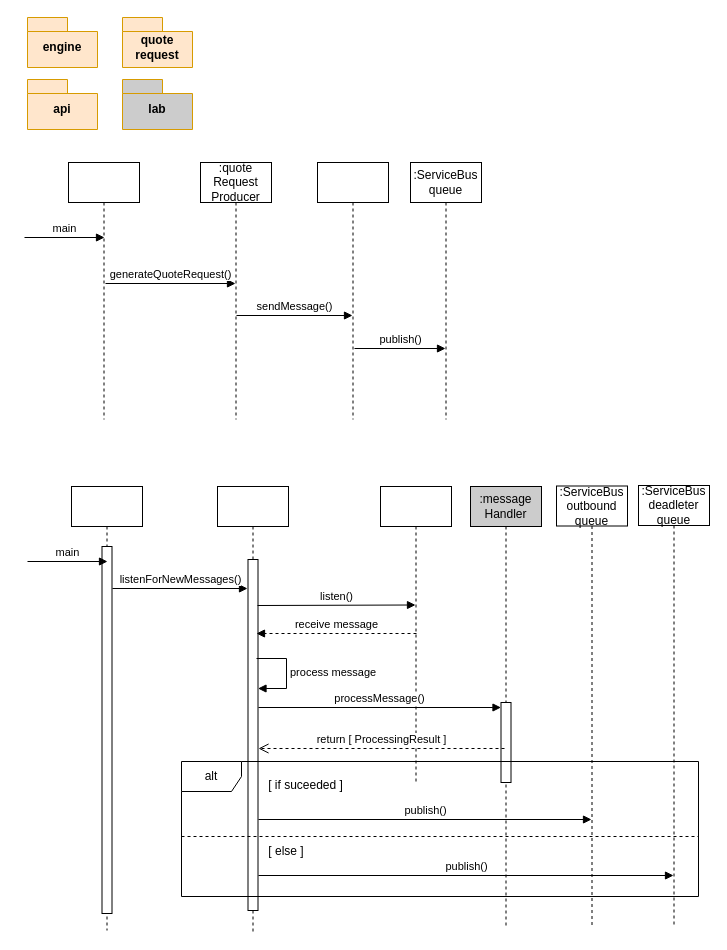
Some shapes in this 727 by 950 pixel diagram are drawn without their labels. The box of each missing label's shape, as (x1, y1, x2, y2) in pixels:
:broker Client: (216, 486, 288, 932)
:main: (70, 486, 142, 930)
:quote request start: (68, 162, 140, 420)
:request Quote Queue: (316, 162, 388, 420)
:ServiceBus inbound queue: (380, 486, 452, 782)
